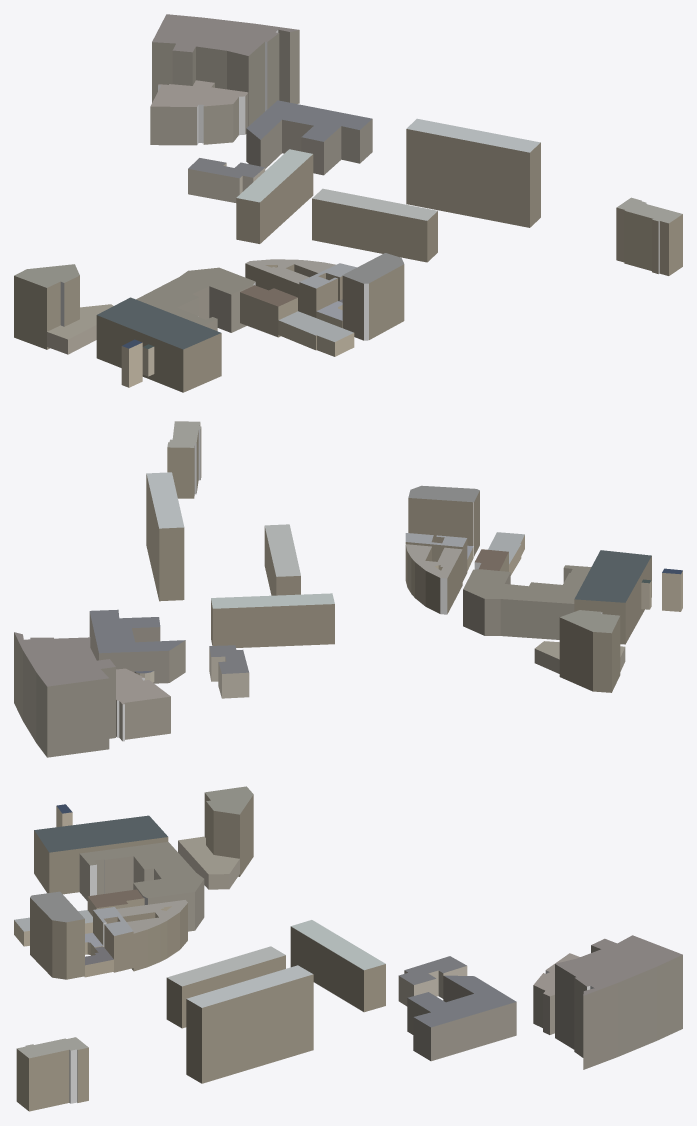
3 views of the same model, one above another, from view 1: azimuth 30°, elevation 25°; view 2: azimuth 150°, elevation 25°; view 3: azimuth 270°, elevation 25° (orthographic). The views are drawn at different scales.
Parts seen in each view (by area): view 1: tuile; view 2: tuile; view 3: tuile.
Part boxes in pixels (box(x1,y1,x2,y2)): tuile: box(14, 14, 682, 392); tuile: box(14, 421, 682, 757); tuile: box(14, 786, 682, 1111).
Bounding box in the file's own units: 250 × 37.52 × 256.
